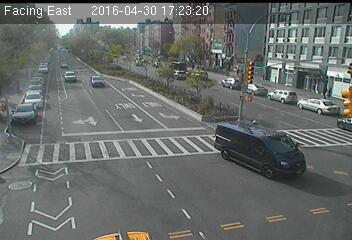neg: (238, 65, 262, 98), (23, 104, 43, 130), (159, 83, 174, 104), (22, 57, 33, 72)
pos: (325, 83, 340, 102), (313, 82, 327, 100)
